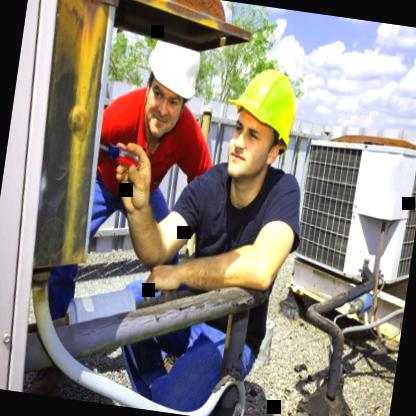helmet: (120, 4, 216, 152), (212, 50, 312, 190)
